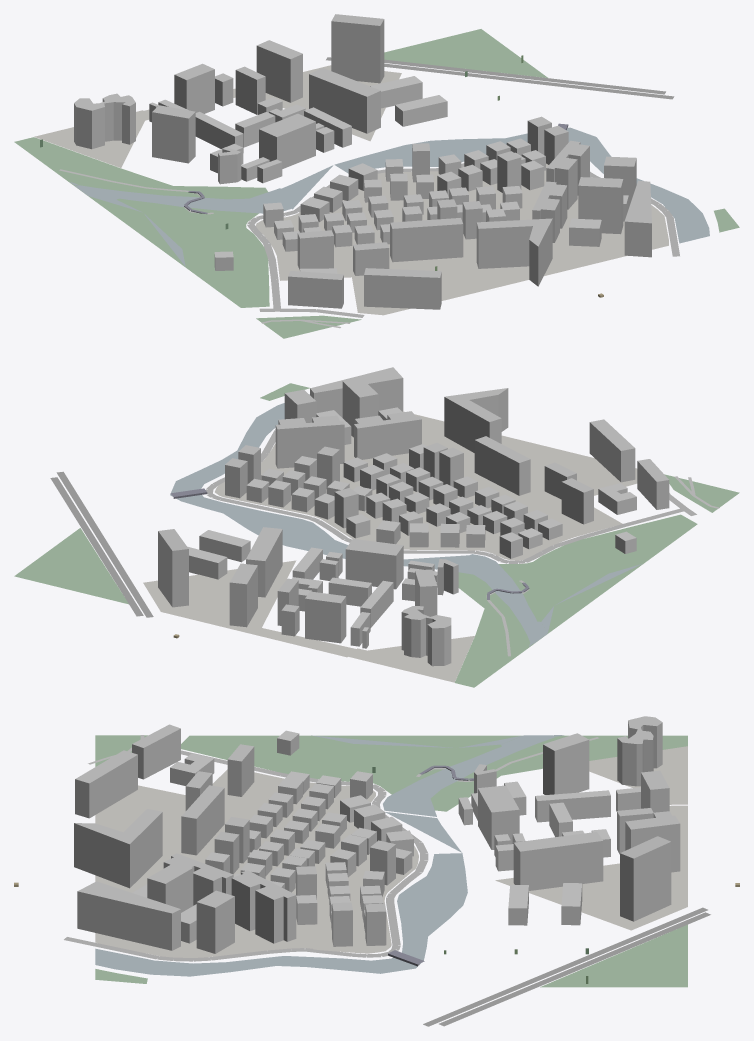
3 views of the same model, one above another, from view 1: azimuth 30°, elevation 25°; view 2: azimuth 150°, elevation 25°; view 3: azimuth 270°, elevation 25° (orthographic). The views are drawn at different scales.
Size of the model in its own units: 581 by 59 by 613.
